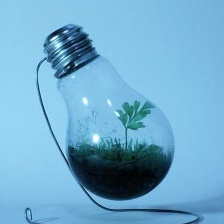light_bulb: (40, 18, 178, 207)
